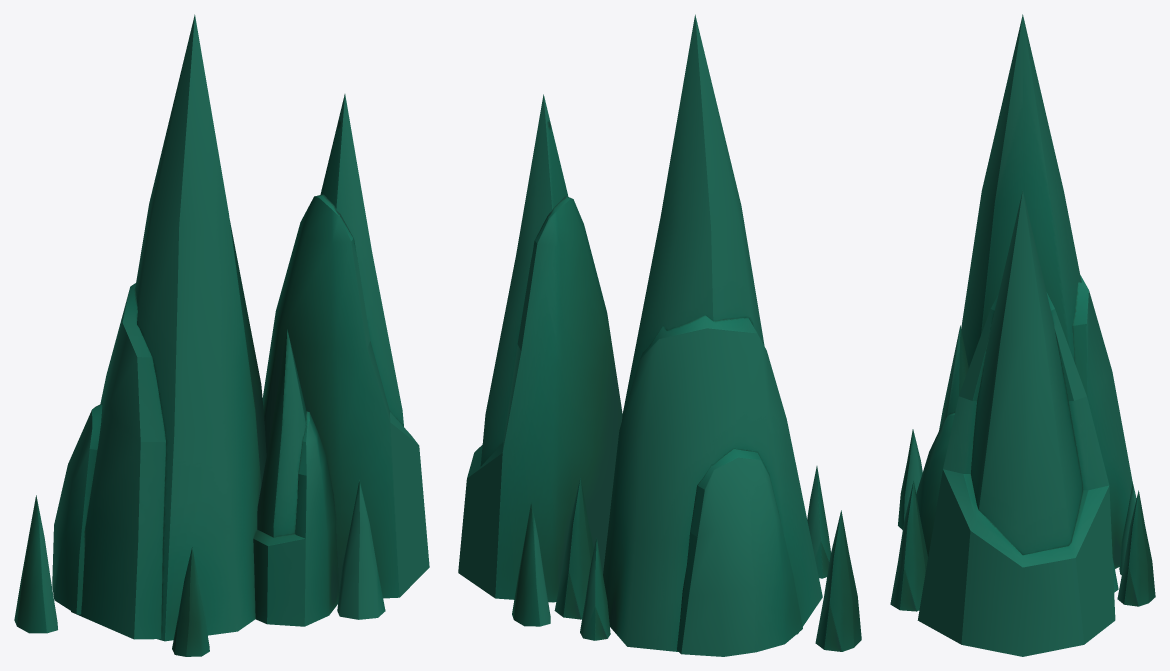
The model's file is stalagmiteSharp.fbx.
3 renders of one model, left to right at view 1: azimuth 30°, elevation 25°; view 2: azimuth 150°, elevation 25°; view 3: azimuth 270°, elevation 25°, orthographic. The views are drawn at different scales.
Visible parts, largest first — view 1: stalagmite_sharp_geo; view 2: stalagmite_sharp_geo; view 3: stalagmite_sharp_geo.
Part boxes in pixels (x1=…): stalagmite_sharp_geo: x1=14, y1=14, x2=429, y2=656; stalagmite_sharp_geo: x1=458, y1=14, x2=861, y2=656; stalagmite_sharp_geo: x1=890, y1=14, x2=1155, y2=656.
Bounding box in the file's own units: 70.37 × 98.53 × 43.8.
Materials: 1 (1 with a texture image).
